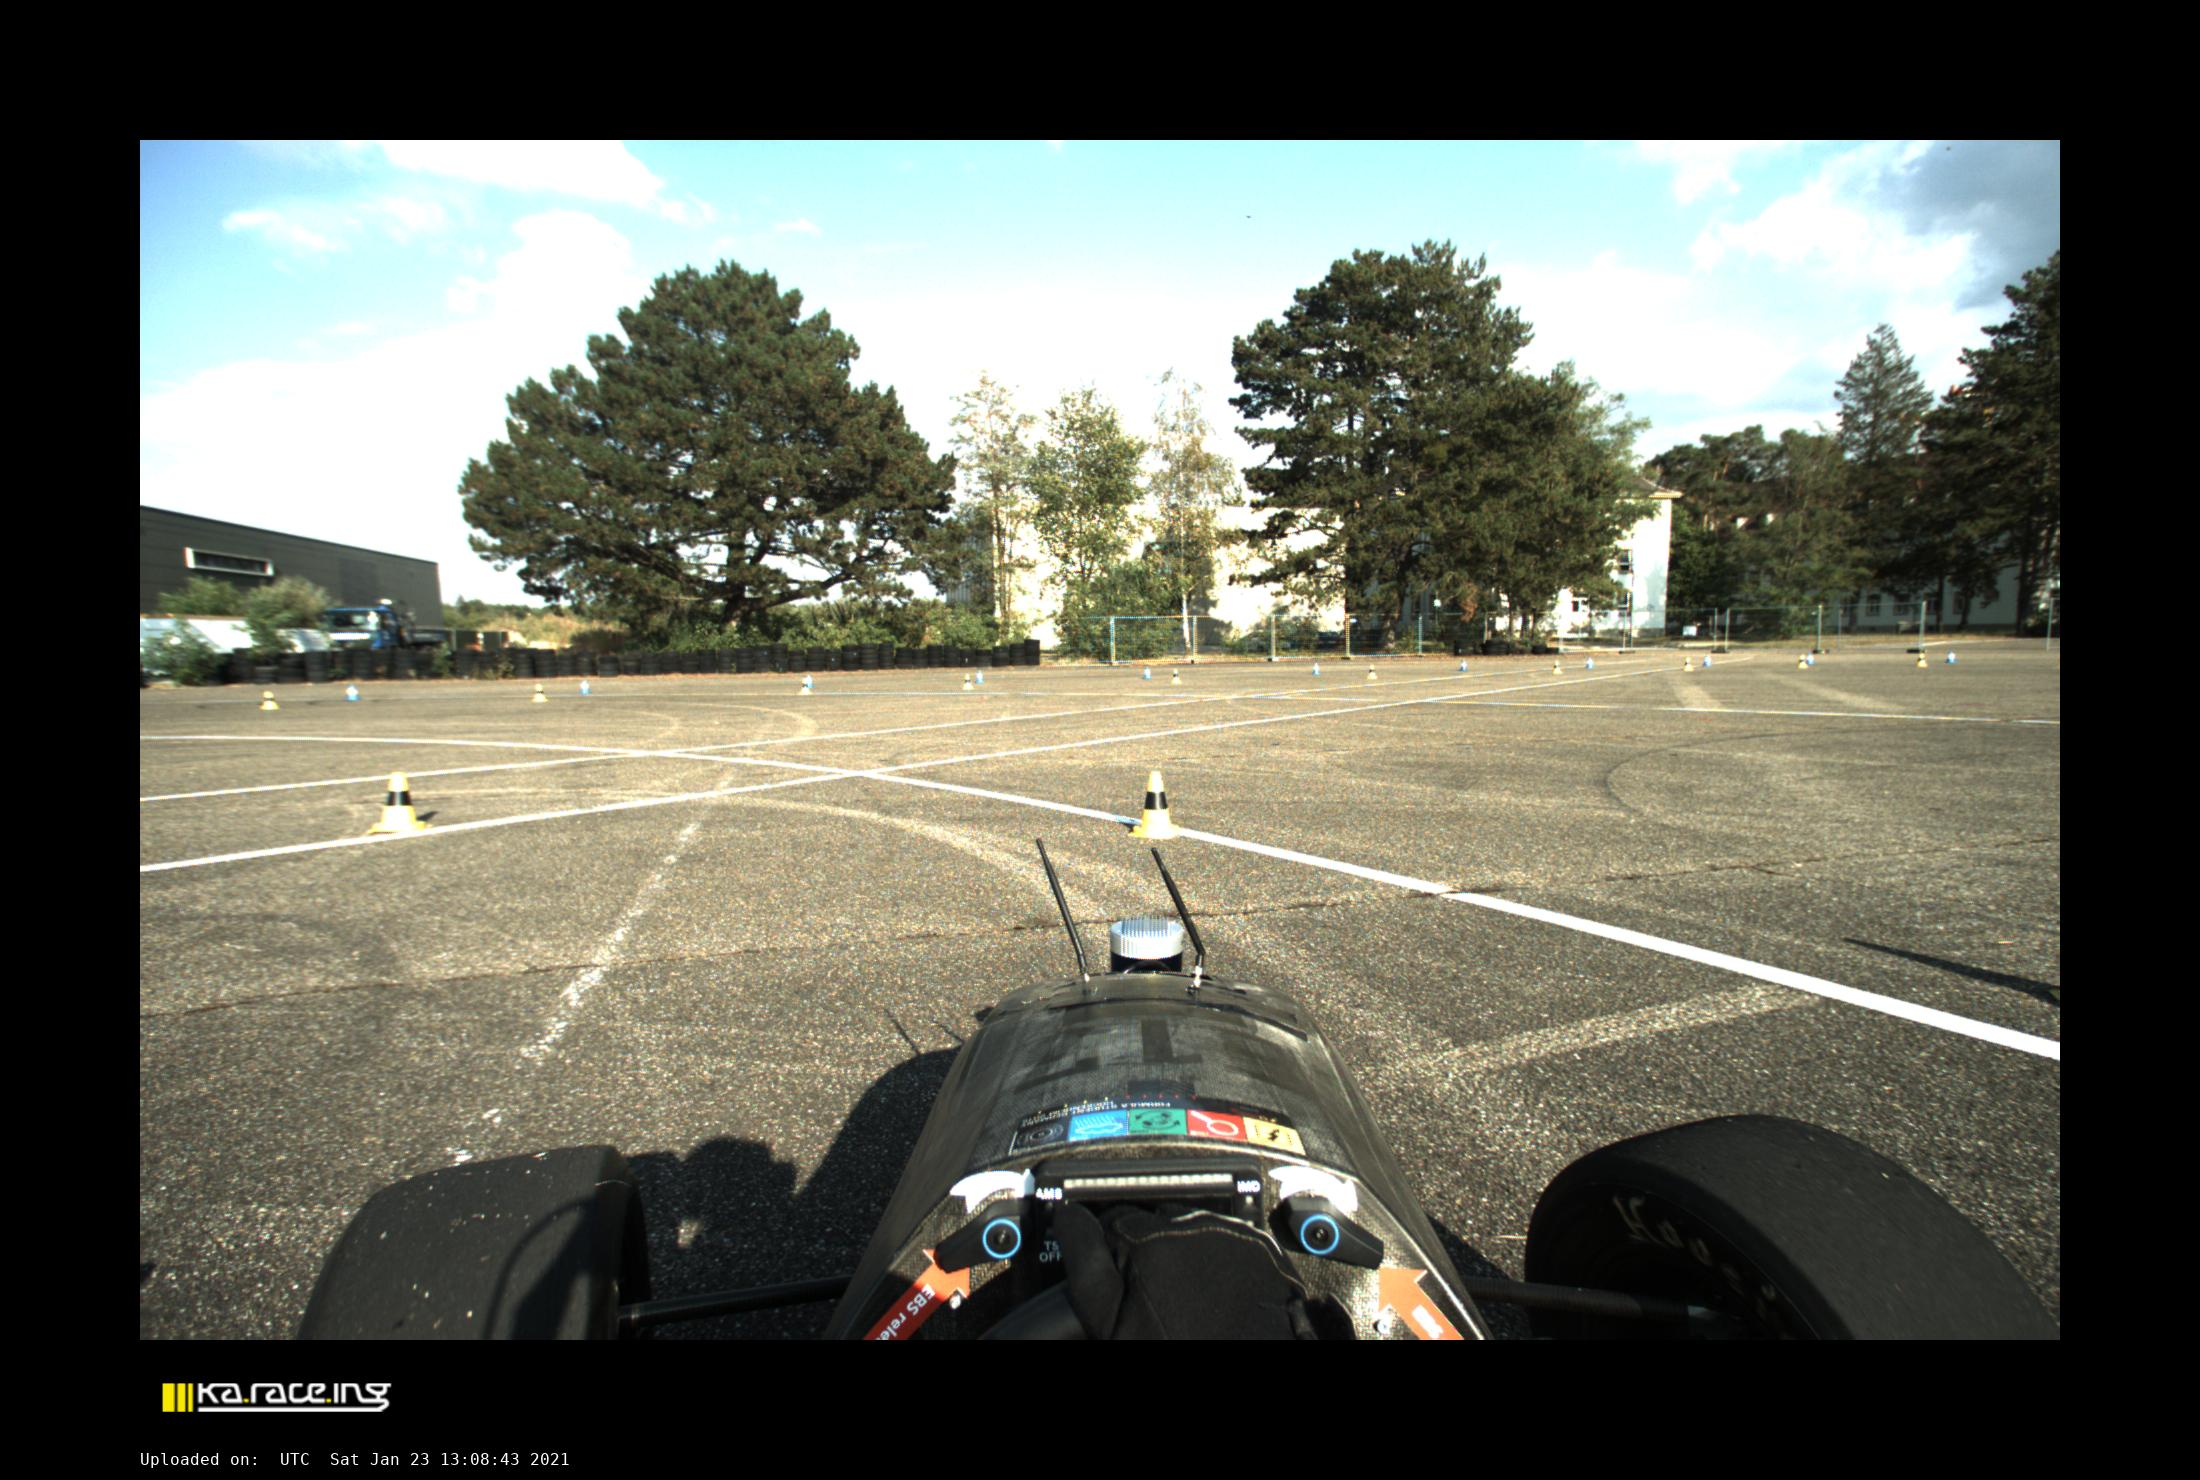blue_cone: (345, 685, 358, 700), (580, 679, 591, 694), (1141, 666, 1153, 679), (804, 674, 814, 689), (1946, 651, 1956, 662), (974, 671, 984, 682), (1807, 652, 1815, 666), (1311, 662, 1320, 676), (1703, 656, 1713, 666), (1586, 657, 1594, 669), (1458, 661, 1467, 671)
yellow_cone: (1128, 771, 1184, 839), (372, 771, 424, 832), (259, 690, 279, 710), (532, 682, 548, 702), (799, 679, 813, 695), (1171, 669, 1183, 684), (963, 674, 974, 689), (1797, 654, 1809, 667), (1918, 652, 1927, 667), (1553, 661, 1562, 674), (1368, 666, 1377, 679), (1685, 657, 1693, 671)
